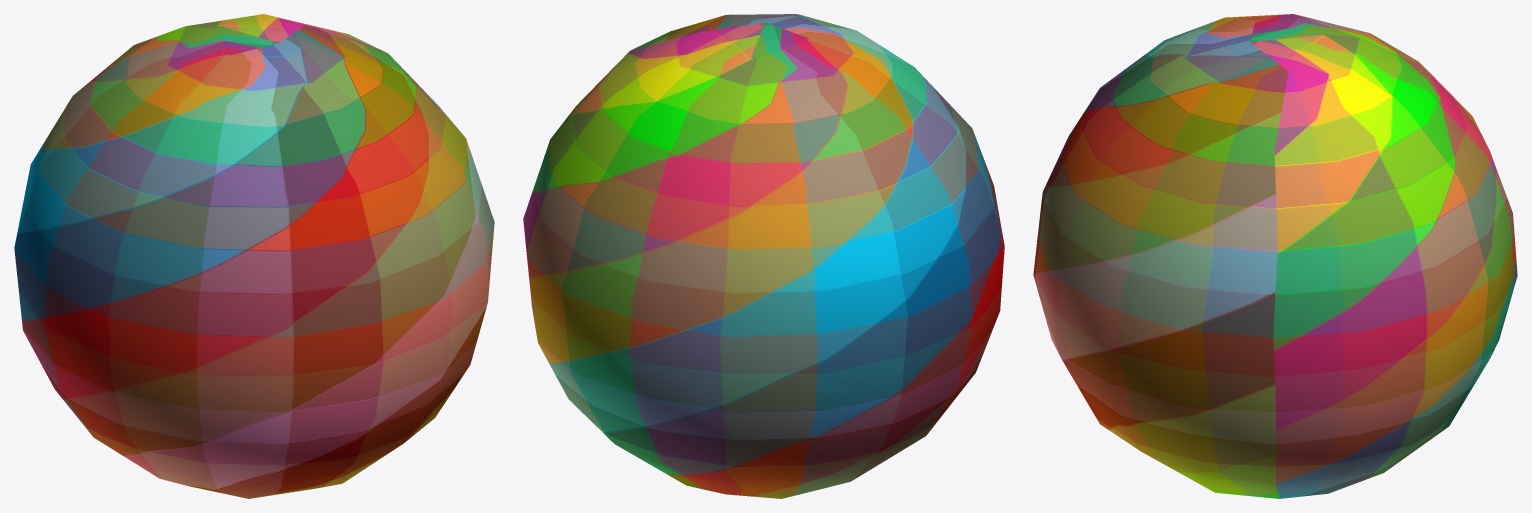
File: ball.fbx
3 renders of one model, left to right at view 1: azimuth 30°, elevation 25°; view 2: azimuth 150°, elevation 25°; view 3: azimuth 270°, elevation 25°, orthographic.
Parts seen in each view (by area): view 1: Sphere; view 2: Sphere; view 3: Sphere.
Part boxes in pixels (left/top/right/bottom): Sphere: left=14, top=14, right=494, bottom=498; Sphere: left=523, top=14, right=1004, bottom=498; Sphere: left=1033, top=14, right=1517, bottom=498.
Size of the model in its own units: 0.6596 by 0.6601 by 0.6602.
1 material, 1 textured.
